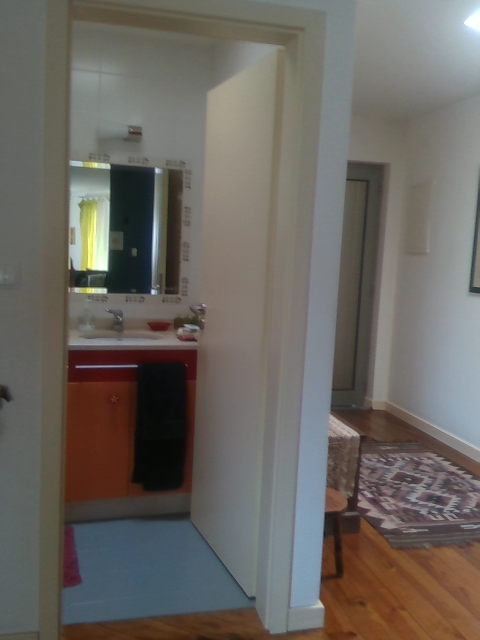open: (42, 0, 328, 639)
